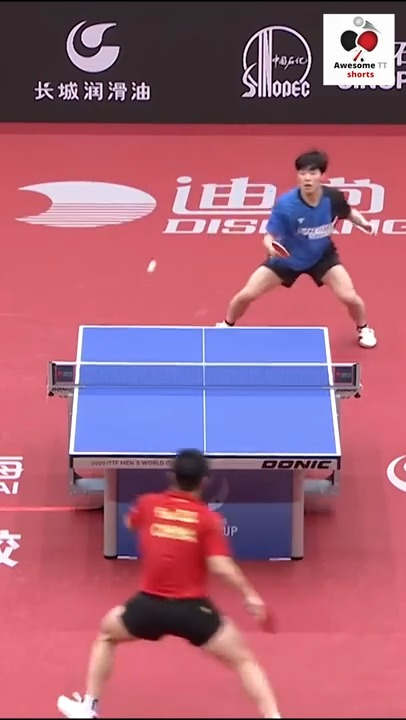Ball: (148, 259, 160, 277)
